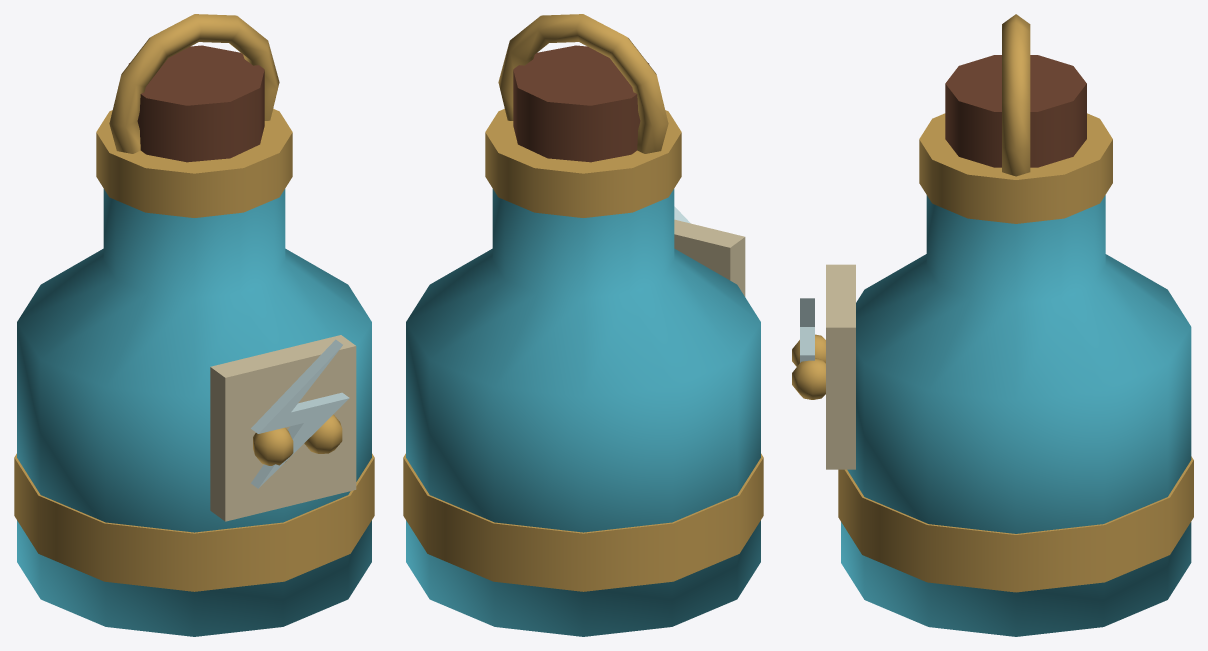
The model's file is speed_tonic.fbx.
3 views of the same model, side by side, from view 1: azimuth 30°, elevation 25°; view 2: azimuth 150°, elevation 25°; view 3: azimuth 270°, elevation 25° (orthographic).
Parts seen in each view (by area): view 1: speed_tonic; view 2: speed_tonic; view 3: speed_tonic.
Boxes of the visible parts, x1,y1,x2,y2 form: speed_tonic: (14, 14, 374, 636); speed_tonic: (403, 14, 763, 636); speed_tonic: (792, 14, 1193, 636).
Bounding box in the file's own units: 0.4771 × 0.8 × 0.5391.
